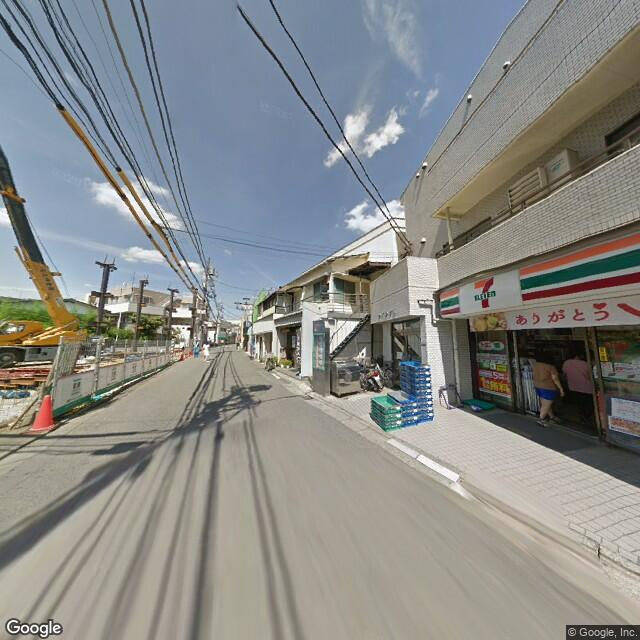7-eleven: (440, 228, 639, 324)
